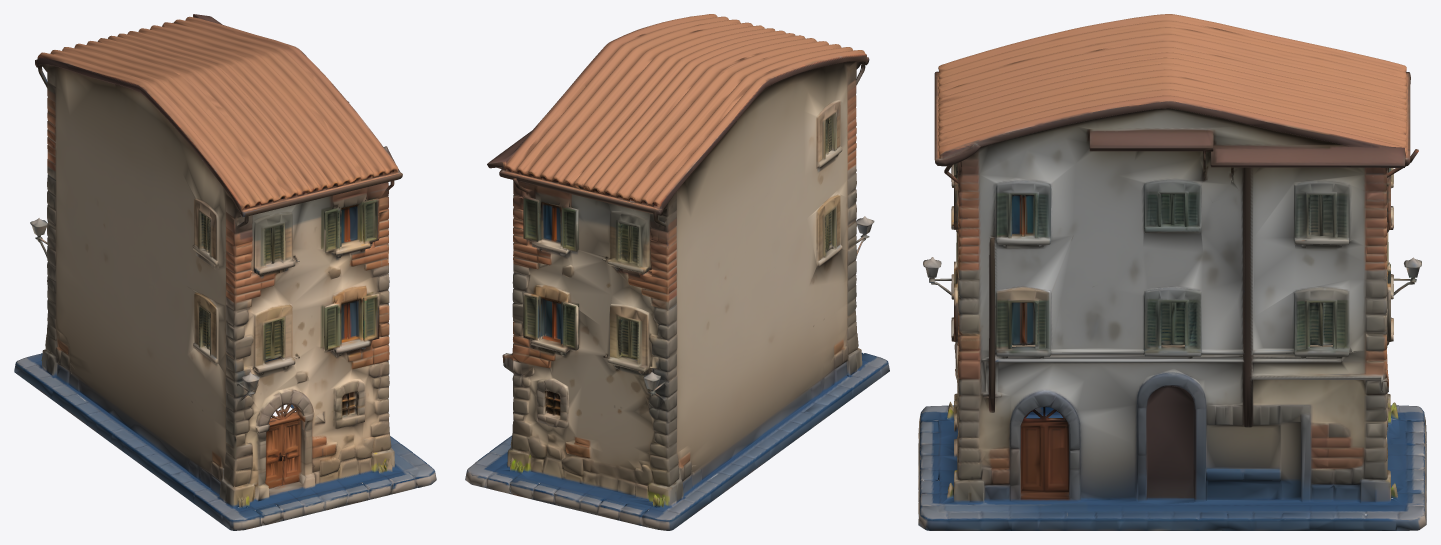
3 views of the same model, side by side, from view 1: azimuth 30°, elevation 25°; view 2: azimuth 150°, elevation 25°; view 3: azimuth 270°, elevation 25° (orthographic). The views are drawn at different scales.
Visible parts, largest first — view 1: node_0; view 2: node_0; view 3: node_0.
Boxes of the visible parts, x1,y1,x2,y2 form: node_0: (14,14,436,530); node_0: (465,14,889,530); node_0: (918,14,1426,530).
Size of the model in its own units: 0.4496 by 0.7537 by 0.8394.
1 material, 1 textured.
